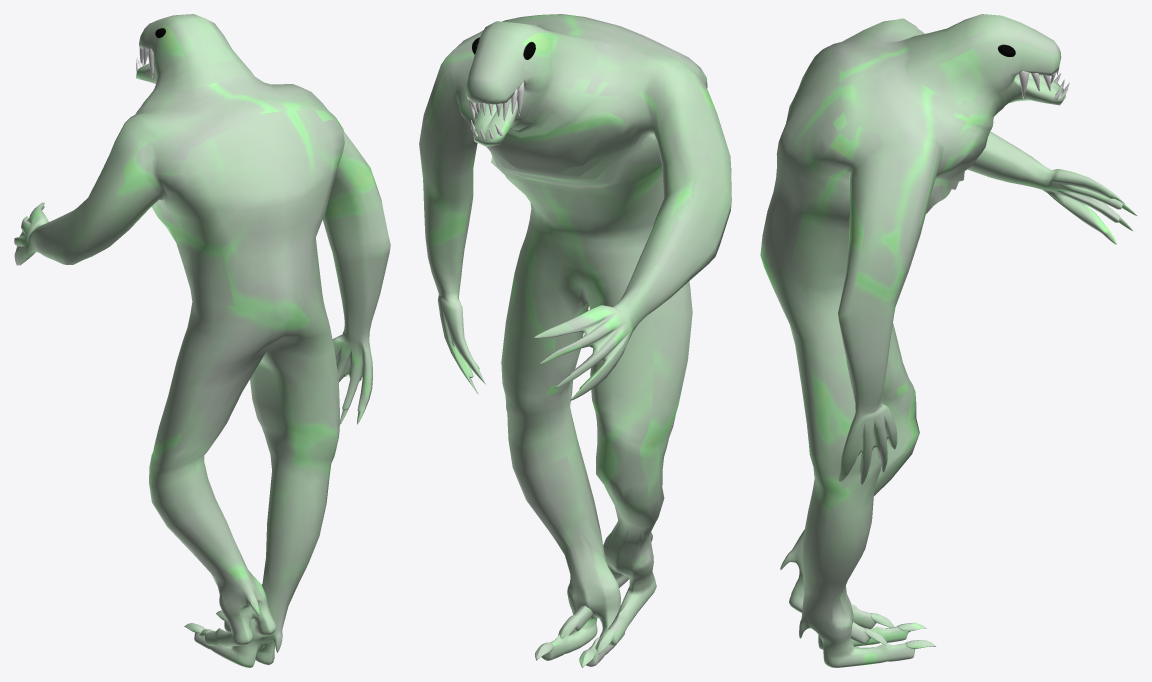
The model's file is Berserkerandar.0038.obj.
The picture shows the model from 3 angles, left to right: view 1: azimuth 30°, elevation 25°; view 2: azimuth 150°, elevation 25°; view 3: azimuth 270°, elevation 25°; orthographic projection. The views are drawn at different scales.
Visible parts, largest first — view 1: polySurface27; view 2: polySurface27; view 3: polySurface27.
Part boxes in pixels (x1,y1,x2,y2): polySurface27: [14, 14, 390, 667]; polySurface27: [419, 14, 731, 667]; polySurface27: [760, 14, 1136, 667].
Size of the model in its own units: 11.81 by 23.53 by 12.49.
1 material, 1 textured.
